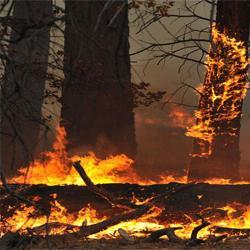fire: (31, 149, 126, 184), (222, 213, 250, 232), (13, 211, 47, 225), (123, 223, 169, 233)
